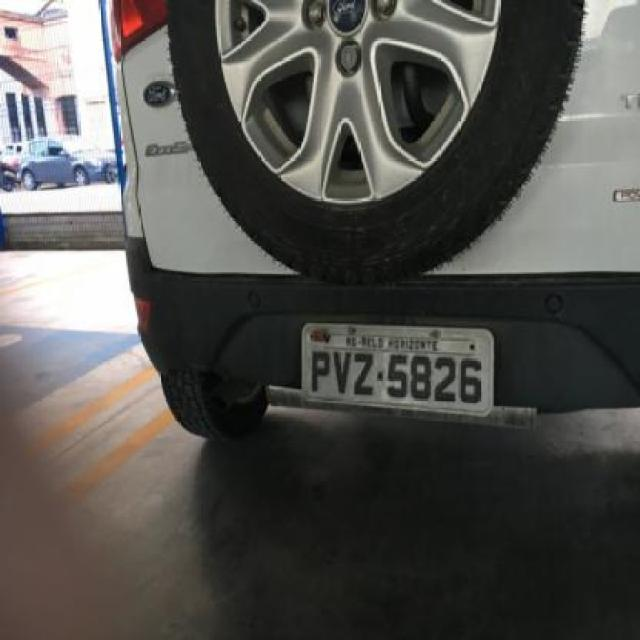old_plate: (296, 318, 502, 422)
